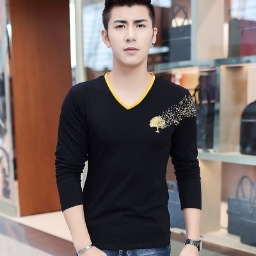face: (99, 1, 158, 65)
